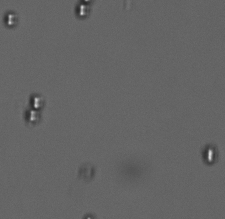Dead Cell: (76, 162, 97, 181)
Living Cell: (202, 142, 219, 168), (23, 107, 41, 126), (74, 2, 91, 20), (4, 9, 18, 29), (29, 94, 46, 110)
